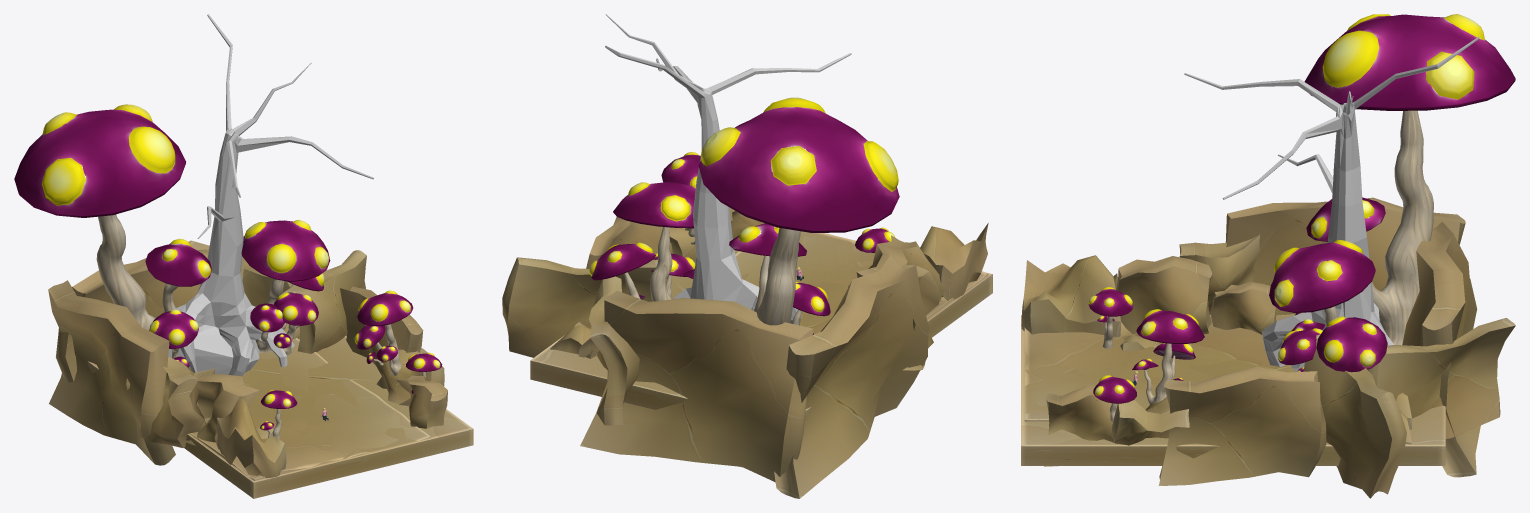
File: Lost Treasure.fbx
3 renders of one model, left to right at view 1: azimuth 30°, elevation 25°; view 2: azimuth 150°, elevation 25°; view 3: azimuth 270°, elevation 25°, orthographic. The views are drawn at different scales.
Parts seen in each view (by area): view 1: Cylinder004, Box011, Box003, Box001, floor, Cylinder003, Box008, Box016, Box005, Box002, Box004, Box012 (+9 smaller); view 2: Box005, Cylinder004, Box011, Box003, Box008, Box001, floor, Cylinder003, Box006, Box002, Cylinder006, Box012 (+8 smaller); view 3: Cylinder004, Box012, Box001, floor, Box003, Box006, Box008, Box005, Box011, Cylinder003, Box002, Box004 (+11 smaller).
Boxes of the visible parts, <box> form: Cylinder004: <box>14,104,211,330</box>; Box011: <box>48,280,175,465</box>; Box003: <box>153,14,373,376</box>; Box001: <box>87,336,473,498</box>; floor: <box>190,338,430,480</box>; Cylinder003: <box>241,220,330,352</box>; Box008: <box>282,250,366,353</box>; Box016: <box>126,357,204,447</box>; Box005: <box>56,249,244,382</box>; Box002: <box>217,397,286,478</box>; Box004: <box>185,368,259,449</box>; Box012: <box>340,286,423,375</box>; Box005: <box>580,291,813,482</box>; Cylinder004: <box>698,97,899,325</box>; Box011: <box>774,254,928,498</box>; Box003: <box>605,14,851,325</box>; Box008: <box>502,257,657,357</box>; Box001: <box>530,222,992,420</box>; floor: <box>735,236,987,334</box>; Cylinder003: <box>613,181,695,301</box>; Box006: <box>588,276,639,425</box>; Box002: <box>920,223,988,300</box>; Cylinder006: <box>589,242,655,299</box>; Box012: <box>586,217,672,278</box>; Cylinder004: <box>1304,14,1515,345</box>; Box012: <box>1159,367,1326,485</box>; Box001: <box>1021,315,1445,465</box>; floor: <box>1024,314,1295,421</box>; Box003: <box>1184,36,1479,371</box>; Box006: <box>1368,318,1515,438</box>; Box008: <box>1303,334,1406,498</box>; Box005: <box>1402,222,1480,477</box>; Box011: <box>1225,197,1465,315</box>; Cylinder003: <box>1269,240,1375,331</box>; Box002: <box>1021,255,1120,337</box>; Box004: <box>1116,256,1211,334</box>.
Size of the model in its own units: 1387 by 1389 by 1453.
